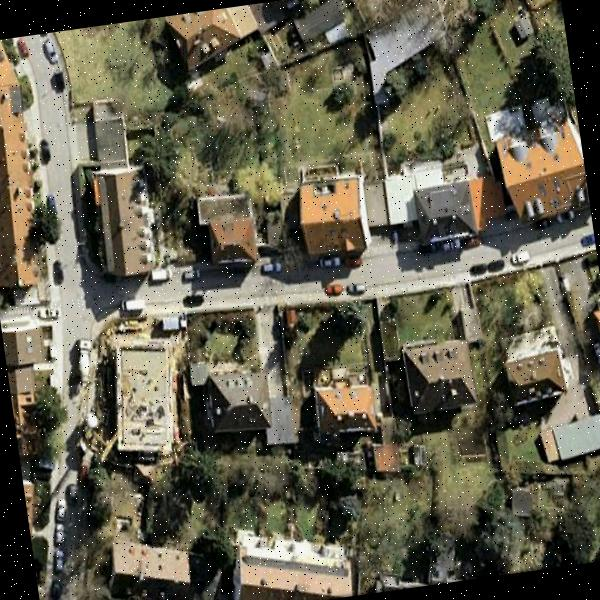Buildings: (80, 112, 160, 278), (0, 41, 46, 289), (225, 529, 360, 600), (113, 332, 183, 461), (497, 128, 590, 220), (402, 160, 498, 245), (298, 159, 374, 250), (168, 3, 266, 65), (396, 345, 473, 417), (195, 360, 272, 429), (107, 537, 191, 600), (1, 324, 47, 438), (195, 184, 259, 264), (504, 334, 570, 404), (540, 402, 600, 466), (316, 383, 378, 434), (288, 0, 349, 39), (589, 301, 600, 371)
